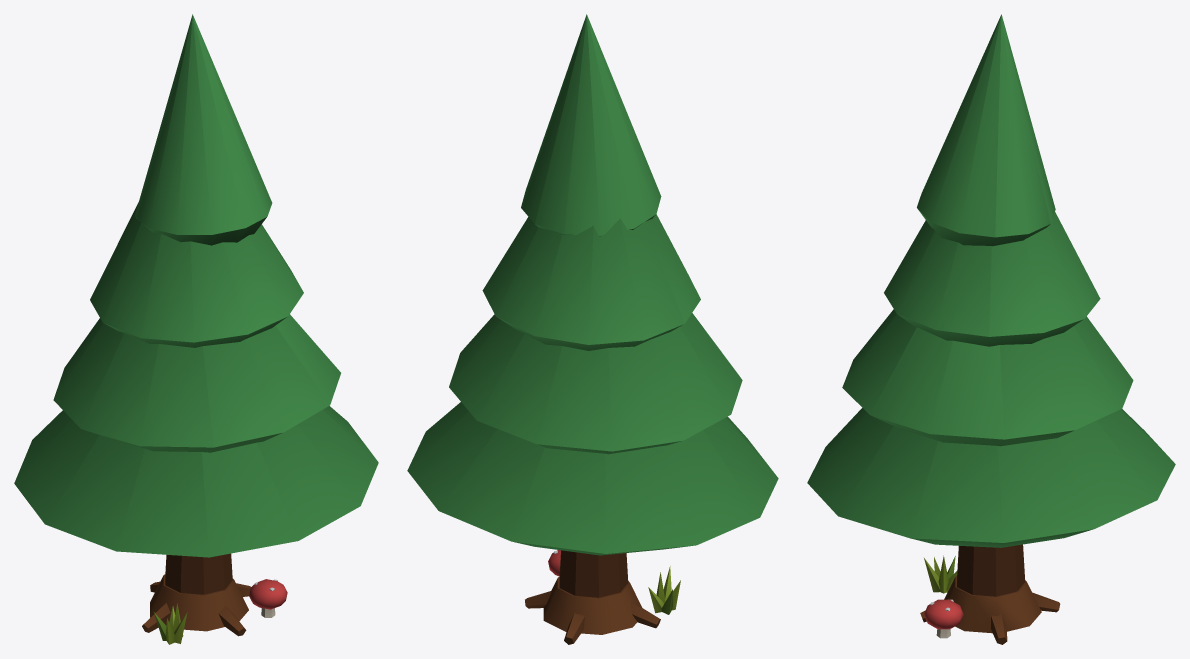
Rendered from n_tree_big.glb.
The picture shows the model from 3 angles, left to right: view 1: azimuth 30°, elevation 25°; view 2: azimuth 150°, elevation 25°; view 3: azimuth 270°, elevation 25°; orthographic projection.
Visible parts, largest first — view 1: sway_crown, body; view 2: sway_crown, body; view 3: sway_crown, body.
Part boxes in pixels (x1,y1,x2,y2): sway_crown: [14, 14, 378, 557]; body: [142, 553, 287, 644]; sway_crown: [407, 14, 778, 555]; body: [525, 550, 680, 644]; sway_crown: [807, 14, 1175, 547]; body: [920, 544, 1060, 644].
Size of the model in its own units: 3.99 by 7.2 by 3.99.
